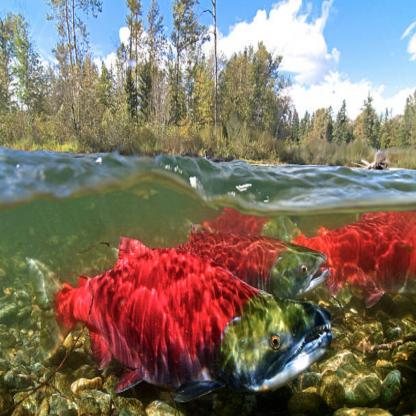sockeye: (40, 240, 326, 387), (192, 222, 325, 300)
sockeye-group: (47, 200, 416, 387)
